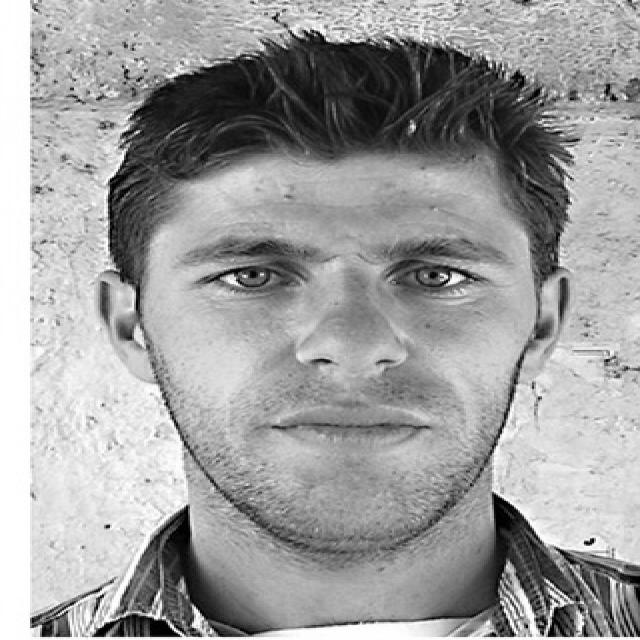without_mask: (132, 150, 542, 556)
